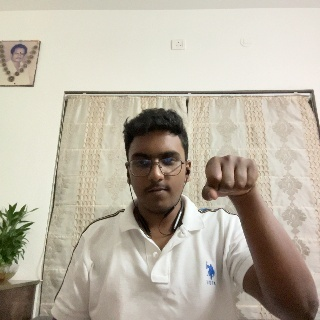Face: (126, 113, 190, 212)
Yes: (202, 150, 265, 219)
